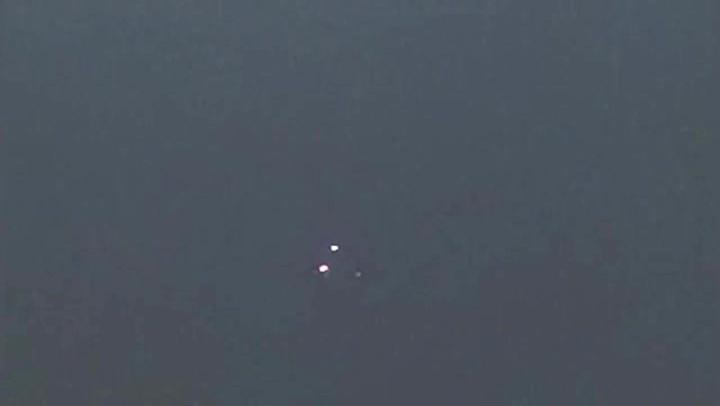Plane: (298, 232, 365, 291)
